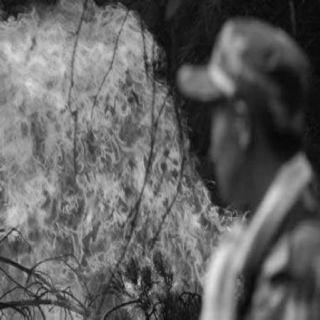Fire: (1, 1, 221, 315)
